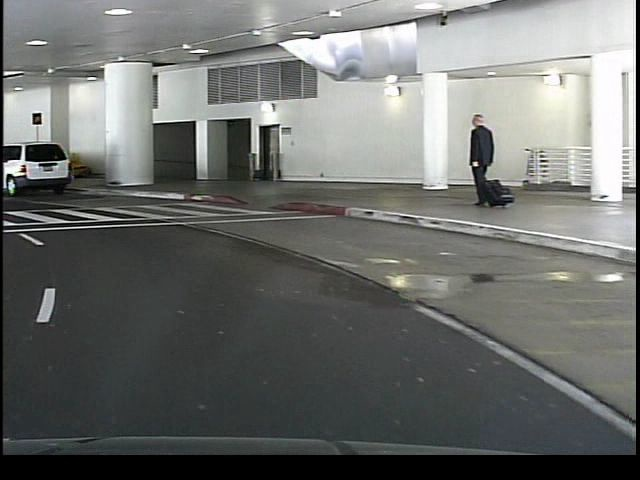person: (458, 110, 491, 209)
